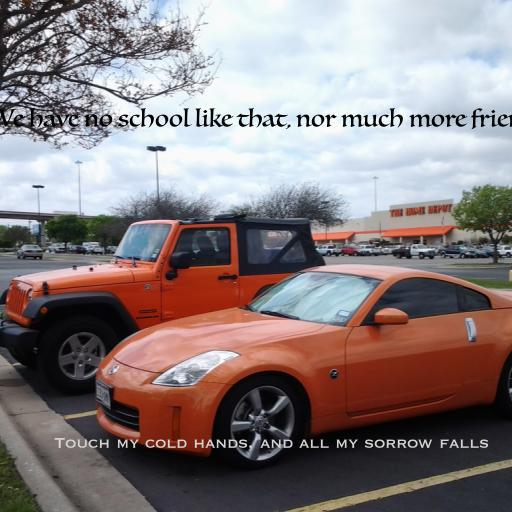Copperplate: (53, 437, 489, 451)
Luminari: (0, 108, 512, 130)
